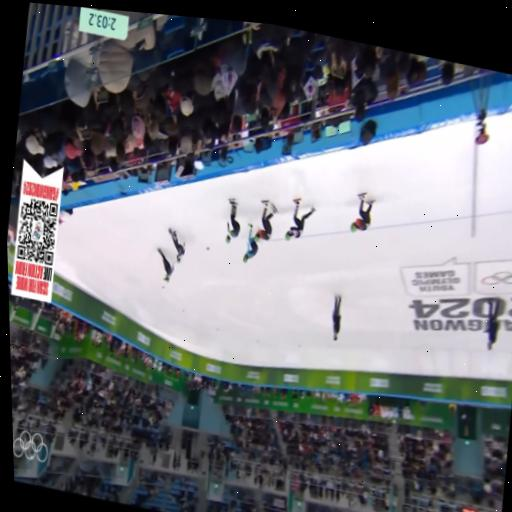Skater: (285, 199, 314, 239), (253, 200, 276, 240), (350, 193, 373, 232), (225, 198, 239, 242), (243, 223, 257, 262), (168, 228, 184, 262), (158, 247, 173, 281)
